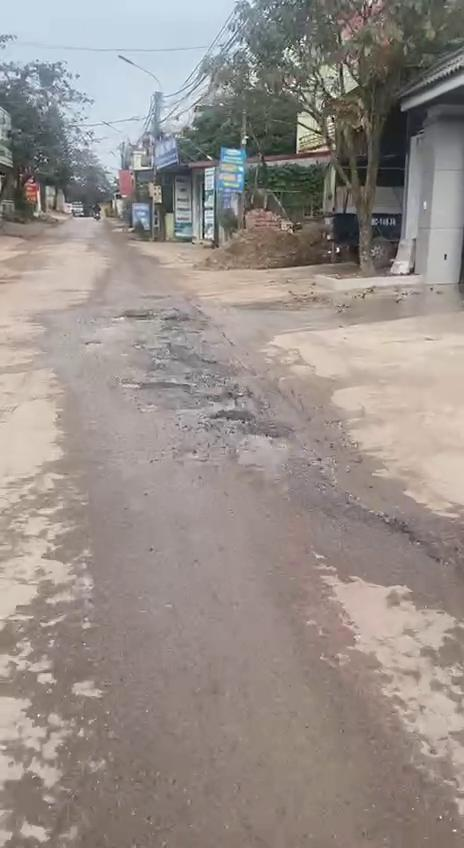pothole: (292, 453, 452, 570), (114, 376, 290, 432), (141, 340, 236, 380)
